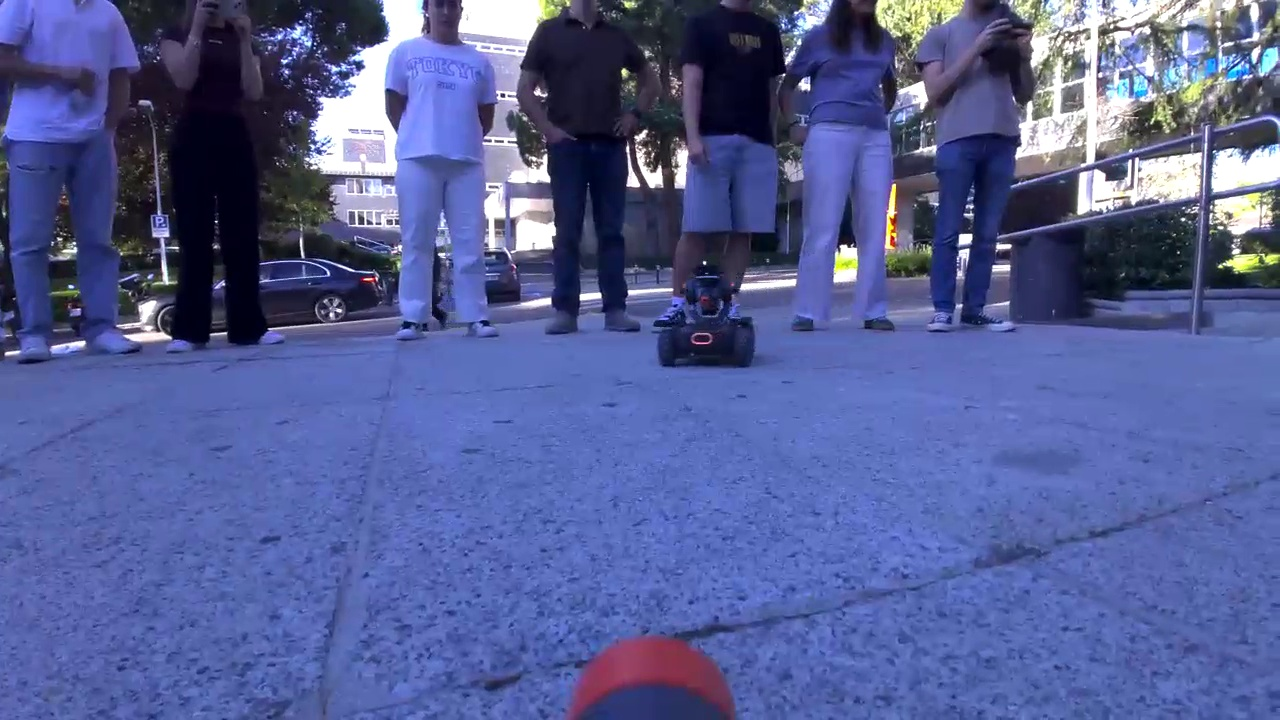robot: (651, 270, 767, 370)
